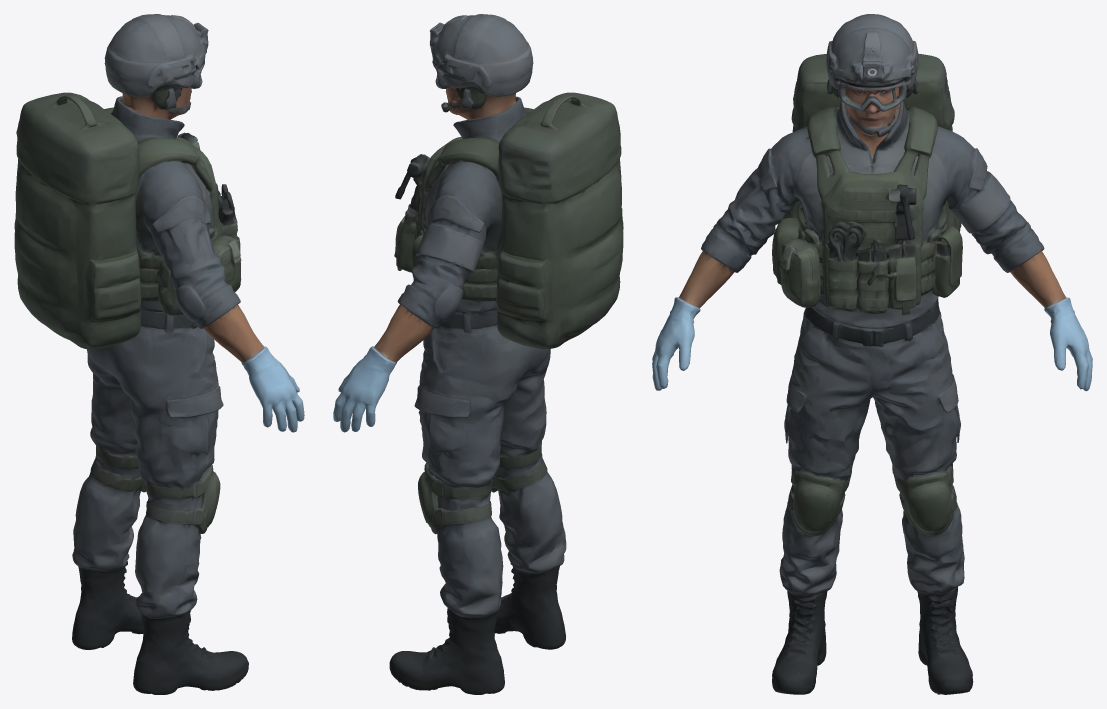
File: medic_karakter.glb
The picture shows the model from 3 angles, left to right: view 1: azimuth 30°, elevation 25°; view 2: azimuth 150°, elevation 25°; view 3: azimuth 270°, elevation 25°; orthographic projection. The views are drawn at different scales.
Visible parts, largest first — view 1: tripo_node_d64495db-e641-4d09-9cf3-2f6f97da106c; view 2: tripo_node_d64495db-e641-4d09-9cf3-2f6f97da106c; view 3: tripo_node_d64495db-e641-4d09-9cf3-2f6f97da106c.
Boxes of the visible parts, <box> form: tripo_node_d64495db-e641-4d09-9cf3-2f6f97da106c: <box>14,14,304,694</box>; tripo_node_d64495db-e641-4d09-9cf3-2f6f97da106c: <box>333,14,623,694</box>; tripo_node_d64495db-e641-4d09-9cf3-2f6f97da106c: <box>652,14,1092,694</box>.
Bounding box in the file's own units: 0.3286 × 1 × 0.6068.
Materials: 1 (1 with a texture image).
